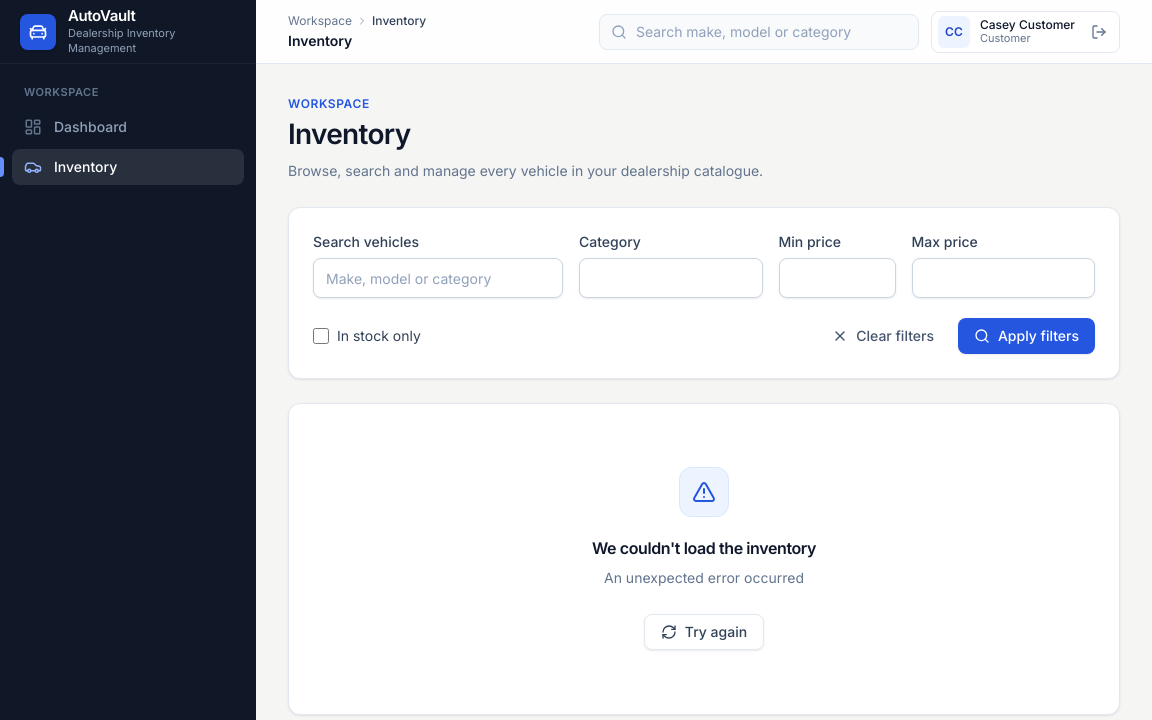
inventory › shows an error with a retry action and recovers
This screenshot has width=1152, height=720.
Expected: the text "An unexpected error occurred" is shown, [604,566,804,590]
Click the button "Try again" at (704, 632), box [644,614,764,650]
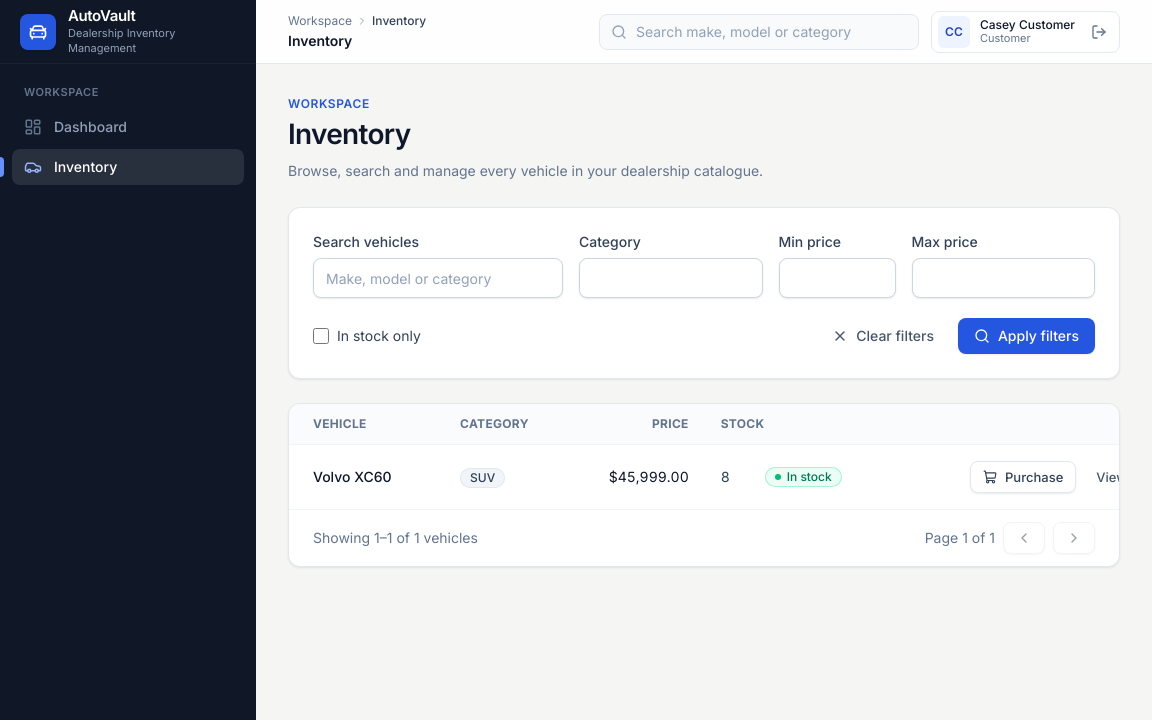
Expected: the link "Volvo XC60" is shown, [313,468,392,485]
